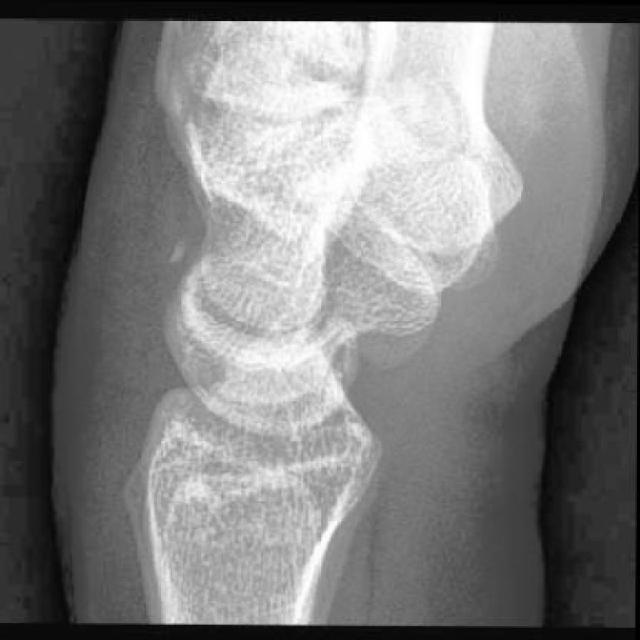Fracture: (162, 223, 227, 287)
